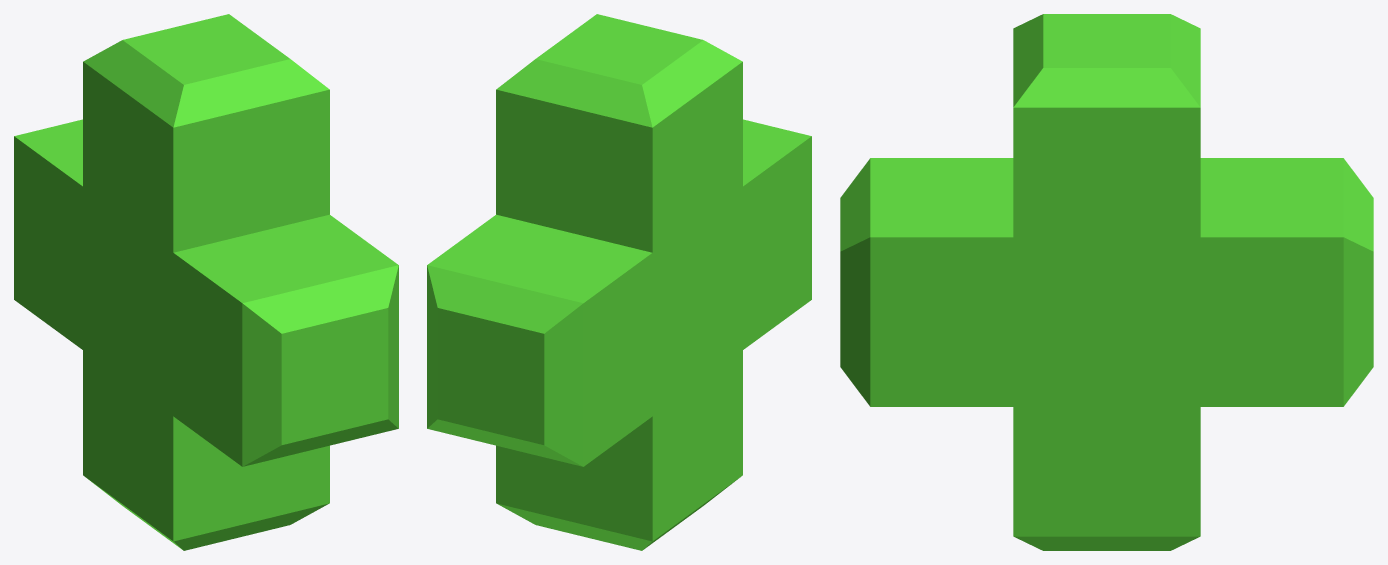
The model's file is Health.fbx.
3 views of the same model, side by side, from view 1: azimuth 30°, elevation 25°; view 2: azimuth 150°, elevation 25°; view 3: azimuth 270°, elevation 25° (orthographic). The views are drawn at different scales.
Parts seen in each view (by area): view 1: Cube; view 2: Cube; view 3: Cube.
Part boxes in pixels (x1,y1,x2,y2): Cube: [14, 14, 398, 550]; Cube: [427, 14, 811, 550]; Cube: [840, 14, 1373, 550].
Bounding box in the file's own units: 0.3878 × 1.1 × 1.1.
